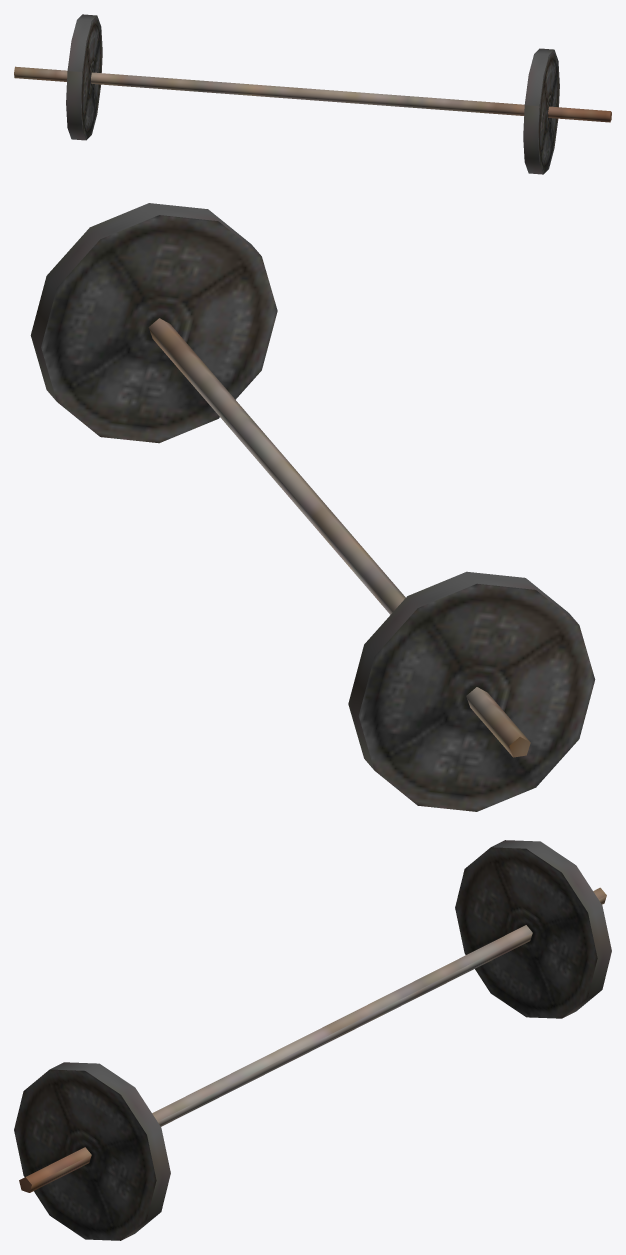
Rendered from multidumbles.glb.
The picture shows the model from 3 angles, top to bottom: view 1: azimuth 30°, elevation 25°; view 2: azimuth 150°, elevation 25°; view 3: azimuth 270°, elevation 25°; orthographic projection. The views are drawn at different scales.
Parts seen in each view (by area): view 1: barbell002; view 2: barbell002; view 3: barbell002.
Part boxes in pixels (x1,y1,x2,y2): barbell002: [14, 14, 611, 174]; barbell002: [30, 203, 595, 811]; barbell002: [14, 840, 611, 1240].
Size of the model in its own units: 1.56 by 0.4161 by 1.34.
Materials: 1 (1 with a texture image).
